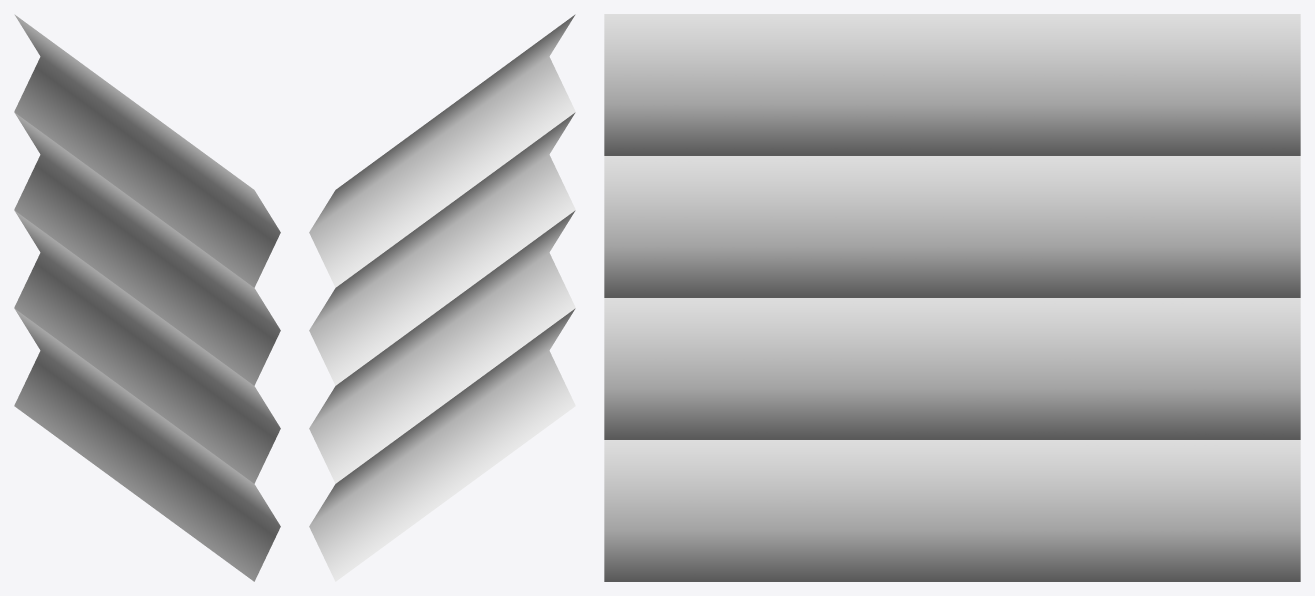
The model's file is WallFull016.fbx.
The picture shows the model from 3 angles, left to right: view 1: azimuth 30°, elevation 25°; view 2: azimuth 150°, elevation 25°; view 3: azimuth 270°, elevation 25°; orthographic projection. The views are drawn at different scales.
Visible parts, largest first — view 1: WallFull016; view 2: WallFull016; view 3: WallFull016.
Boxes of the visible parts, x1,y1,x2,y2 form: WallFull016: [14, 14, 280, 581]; WallFull016: [309, 14, 575, 581]; WallFull016: [604, 14, 1300, 581].
Bounding box in the file's own units: 16.93 × 267 × 240.
